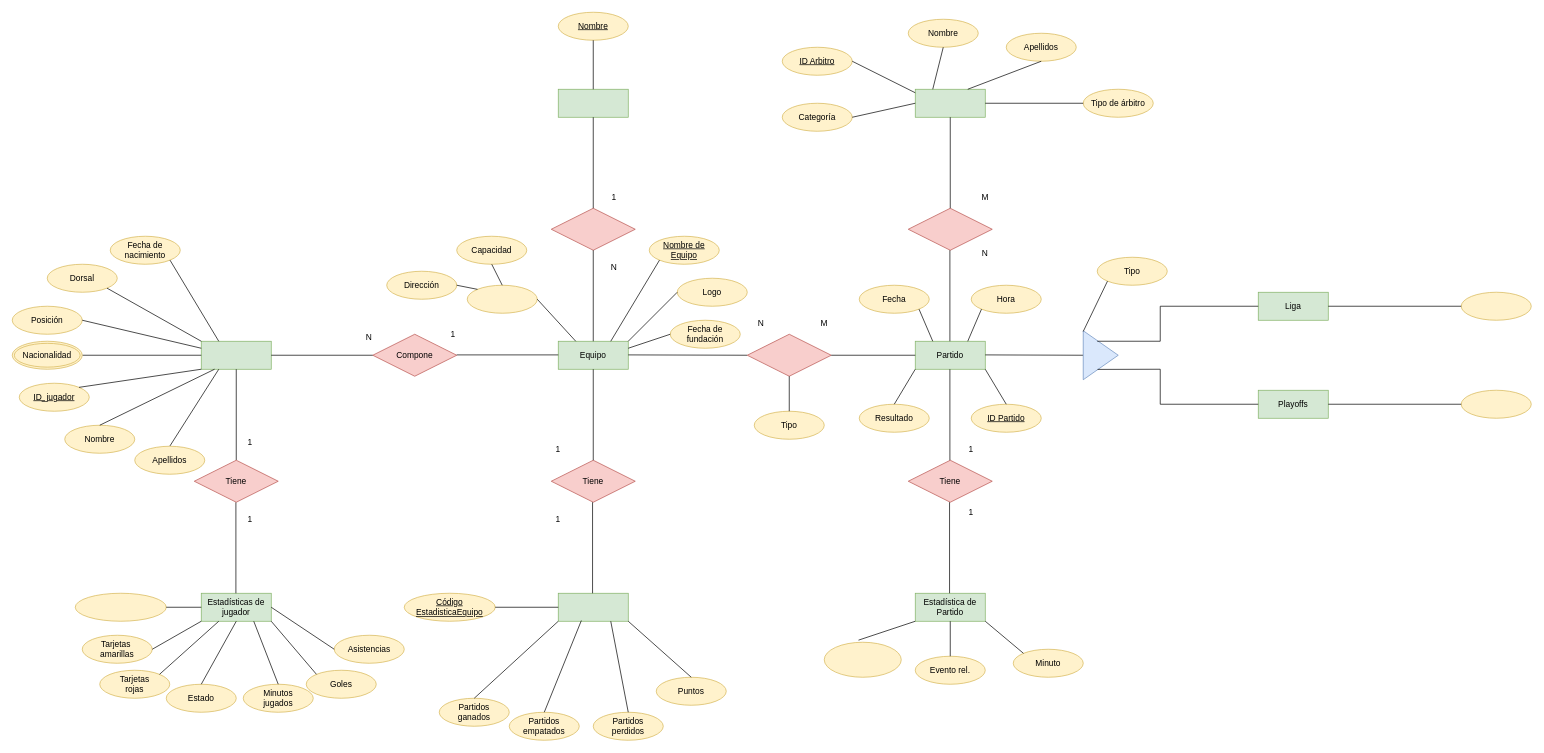
The diagram is 1544 pixels wide and 753 high, and some of its shapes have lost their labels. The centre of each missing label's shape, as x and y in pixels:
"Arbitra" goes at (950,229).
"Código Estadística de Partido" goes at (862,659).
"Estadio" goes at (502,299).
"Estadística de equipo" goes at (593,607).
"Fase" goes at (1496,404).
"Grupo" goes at (593,103).
"ID EstadisticaJugador" goes at (120,607).
"Juega" goes at (789,355).
"Jugador" goes at (236,355).
"nºJornada" goes at (1496,306).
"Pertenece" goes at (593,229).
"Árbitro" goes at (950,103).
